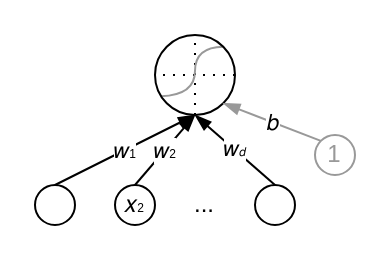
Some shapes in this 390 by 260 pixel diagram are drawn without their labels. Here are the shapes that lost their labels. From the top down, the box of each, then its label:
(33, 183, 75, 225): 𝑥 1
(253, 183, 295, 225): 𝑥 𝑑
